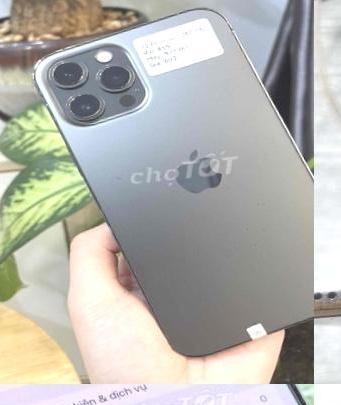physical_damage: (314, 384, 341, 405)
scratch: (314, 267, 341, 319)
